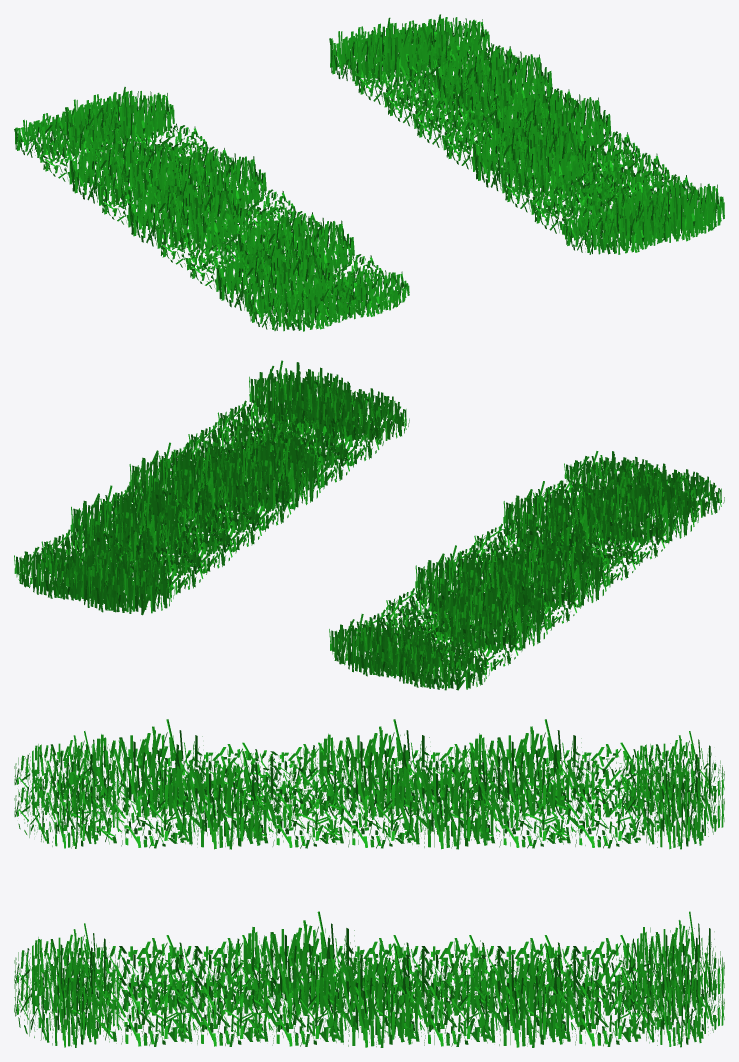
Rendered from grass2Line.glb.
3 views of the same model, one above another, from view 1: azimuth 30°, elevation 25°; view 2: azimuth 150°, elevation 25°; view 3: azimuth 270°, elevation 25° (orthographic). The views are drawn at different scales.
Visible parts, largest first — view 1: Trava Kolosok.044, Trava Kolosok.004, Trava Kolosok.010, Trava Kolosok.017, Trava Kolosok.034, Trava Kolosok.008, Trava Kolosok.054, Trava Kolosok.071, Trava Kolosok.026, Trava Kolosok.074, Trava Kolosok.077, Trava Kolosok.038 (+24 smaller); view 2: Trava Kolosok.017, Trava Kolosok.044, Trava Kolosok.010, Trava Kolosok.034, Trava Kolosok.071, Trava Kolosok.004, Trava Kolosok.054, Trava Kolosok.008, Trava Kolosok.077, Trava Kolosok.026, Trava Kolosok.074, Trava Kolosok.018 (+24 smaller); view 3: Trava Kolosok.010, Trava Kolosok.008, Trava Kolosok.071, Trava Kolosok.074, Trava Kolosok.044, Trava Kolosok.004, Trava Kolosok.017, Trava Kolosok.034, Trava Kolosok.026, Trava Kolosok.077, Trava Kolosok.054, Trava Kolosok.018 (+24 smaller).
Part boxes in pixels (bbox=[...]): Trava Kolosok.044: bbox=[473, 121, 589, 196]; Trava Kolosok.004: bbox=[128, 181, 244, 251]; Trava Kolosok.010: bbox=[435, 44, 552, 115]; Trava Kolosok.017: bbox=[69, 138, 185, 208]; Trava Kolosok.034: bbox=[216, 245, 332, 314]; Trava Kolosok.008: bbox=[494, 87, 611, 158]; Trava Kolosok.054: bbox=[329, 17, 438, 83]; Trava Kolosok.071: bbox=[238, 211, 354, 282]; Trava Kolosok.026: bbox=[615, 177, 724, 243]; Trava Kolosok.074: bbox=[150, 147, 266, 215]; Trava Kolosok.077: bbox=[65, 87, 174, 145]; Trava Kolosok.038: bbox=[564, 198, 671, 254]; Trava Kolosok.017: bbox=[436, 578, 552, 652]; Trava Kolosok.044: bbox=[210, 433, 325, 511]; Trava Kolosok.010: bbox=[70, 485, 186, 560]; Trava Kolosok.034: bbox=[584, 471, 698, 545]; Trava Kolosok.071: bbox=[503, 480, 618, 552]; Trava Kolosok.004: bbox=[495, 535, 610, 610]; Trava Kolosok.054: bbox=[65, 544, 174, 615]; Trava Kolosok.008: bbox=[129, 442, 244, 518]; Trava Kolosok.077: bbox=[329, 614, 439, 678]; Trava Kolosok.026: bbox=[249, 360, 358, 429]; Trava Kolosok.074: bbox=[415, 545, 530, 616]; Trava Kolosok.018: bbox=[14, 541, 120, 601]; Trava Kolosok.010: bbox=[445, 943, 595, 1047]; Trava Kolosok.008: bbox=[293, 943, 444, 1047]; Trava Kolosok.071: bbox=[142, 751, 293, 849]; Trava Kolosok.074: bbox=[369, 751, 520, 849]; Trava Kolosok.044: bbox=[218, 911, 368, 1015]; Trava Kolosok.004: bbox=[293, 719, 444, 817]; Trava Kolosok.017: bbox=[445, 719, 595, 816]; Trava Kolosok.034: bbox=[67, 719, 217, 817]; Trava Kolosok.026: bbox=[14, 943, 119, 1047]; Trava Kolosok.077: bbox=[619, 751, 724, 849]; Trava Kolosok.054: bbox=[619, 911, 724, 1015]; Trava Kolosok.018: bbox=[619, 955, 724, 1047].
Size of the model in its own units: 4.6 by 0.35 by 4.7.
